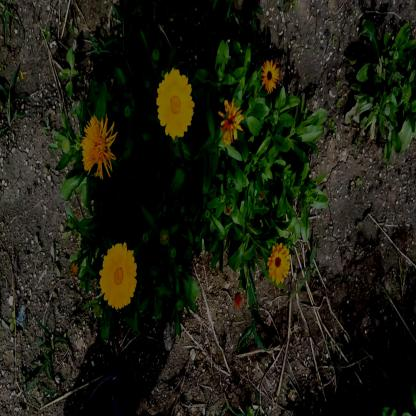marigold: (99, 244, 137, 311), (158, 73, 193, 137), (82, 110, 115, 177), (218, 95, 242, 145), (266, 242, 290, 285), (259, 59, 280, 92)
